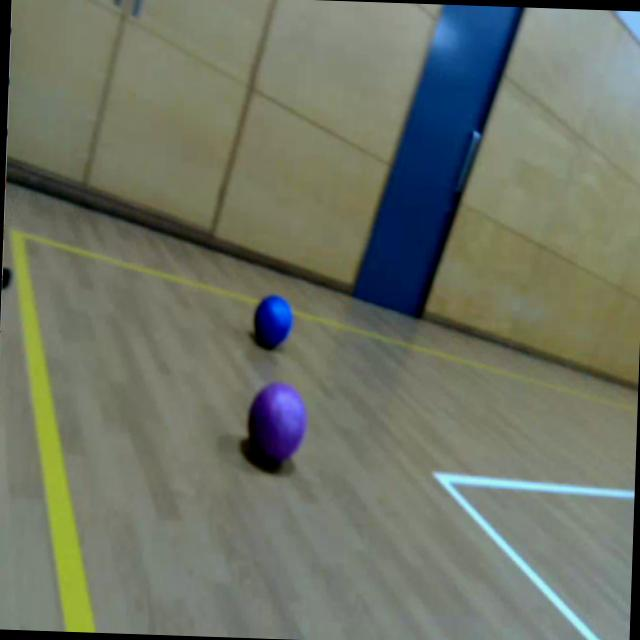blue_ball: (252, 294, 293, 349)
purple_ball: (246, 380, 307, 462)
